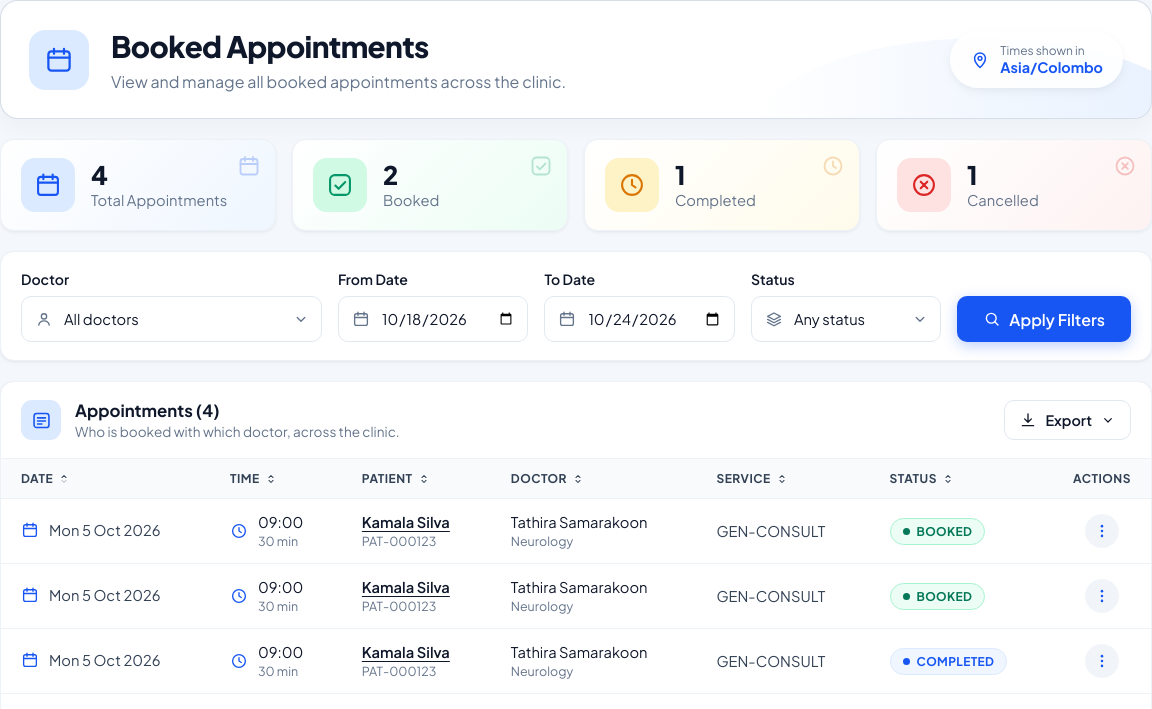
Test: ClinicAppointmentsPage › counts the whole range by status, whatever the status filter shows
The image size is (1152, 709).
Select "Cancelled" in the dropdown labelled "Status" at (846, 319), box [751,296,941,342]
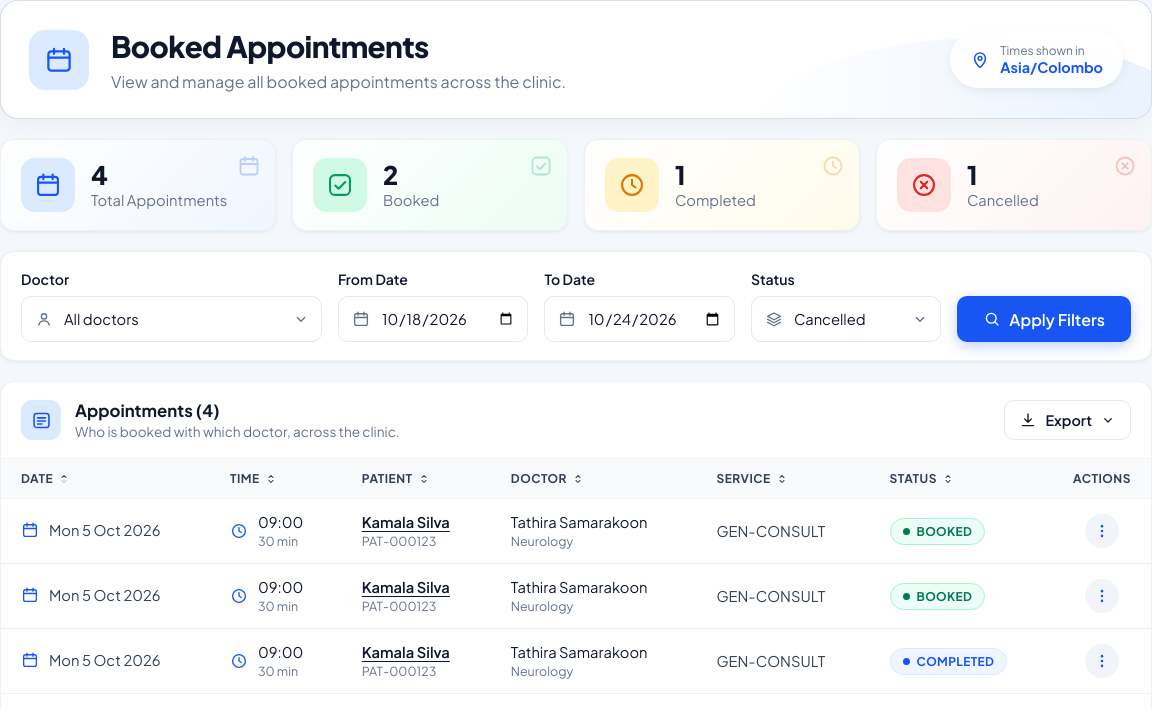
Click the button "Apply Filters" at (1044, 319), box [957,296,1131,342]
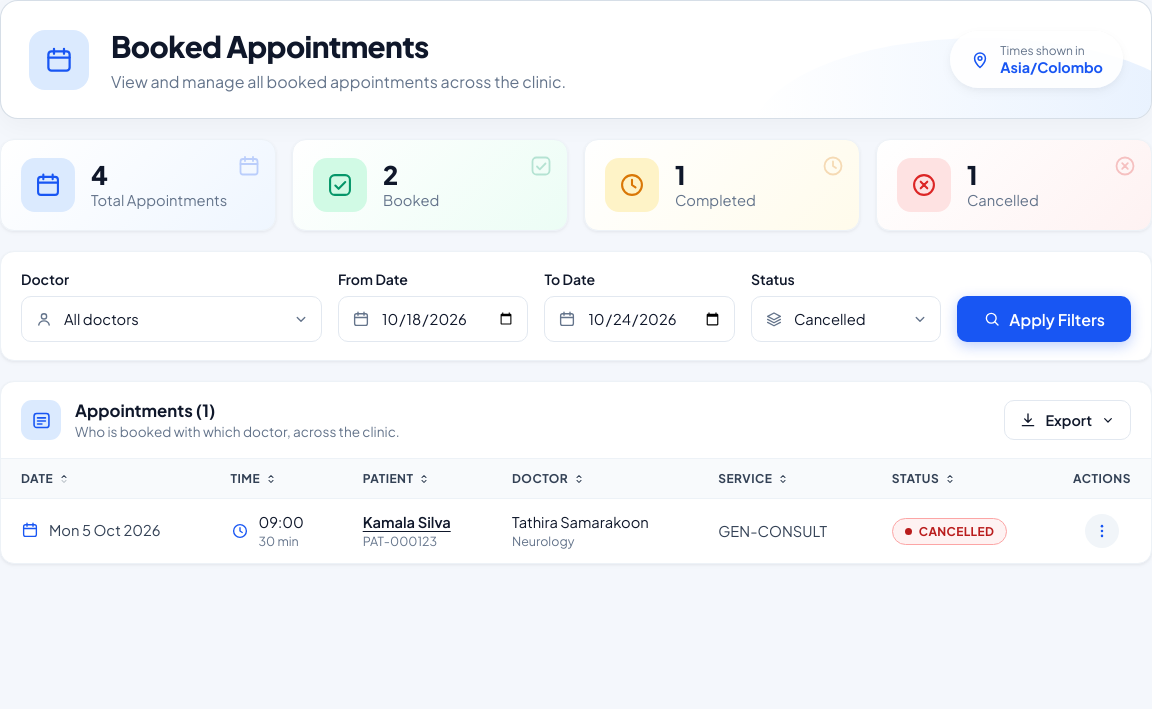
Expected: the element with test id "stat-total" shows "4", [91,158,108,191]
Expected: the heading "Appointments (1)" is shown, [75,400,215,421]
